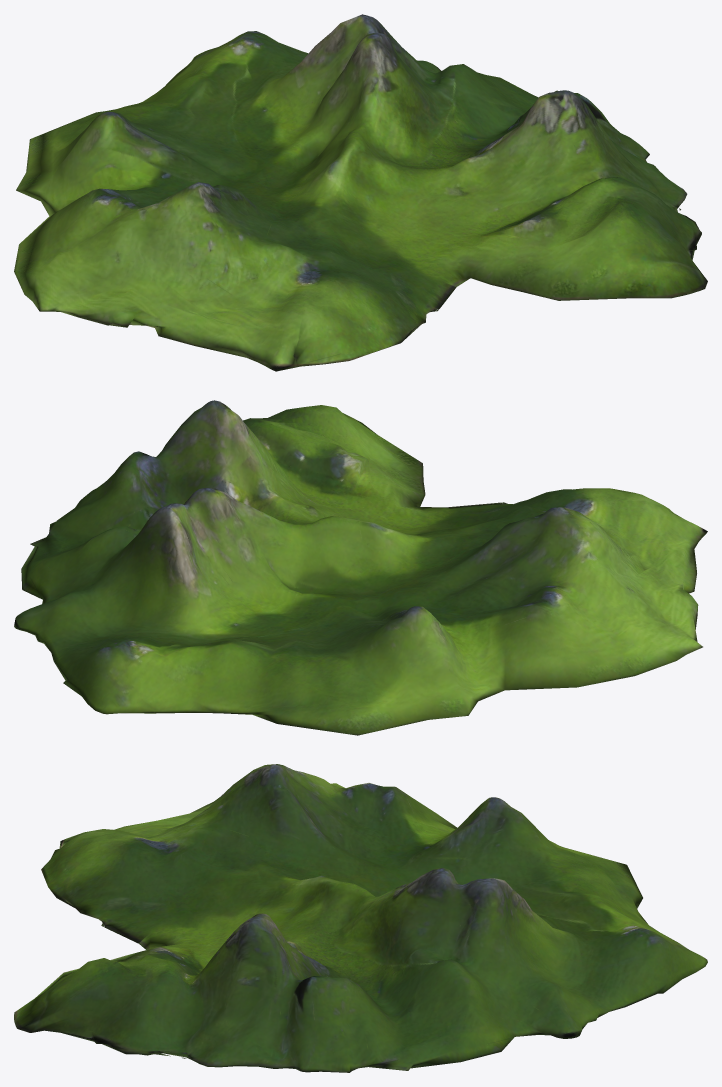
The model's file is _A_3D_model_of_a_fant_0305090326_texture.fbx.
3 renders of one model, top to bottom at view 1: azimuth 30°, elevation 25°; view 2: azimuth 150°, elevation 25°; view 3: azimuth 270°, elevation 25°, orthographic. The views are drawn at different scales.
Parts seen in each view (by area): view 1: Mesh1; view 2: Mesh1; view 3: Mesh1.
Boxes of the visible parts, <box> form: Mesh1: <box>14,14,707,371</box>; Mesh1: <box>14,400,707,735</box>; Mesh1: <box>14,764,707,1072</box>.
Size of the model in its own units: 5540 by 1000 by 5688.
Materials: 1 (1 with a texture image).
